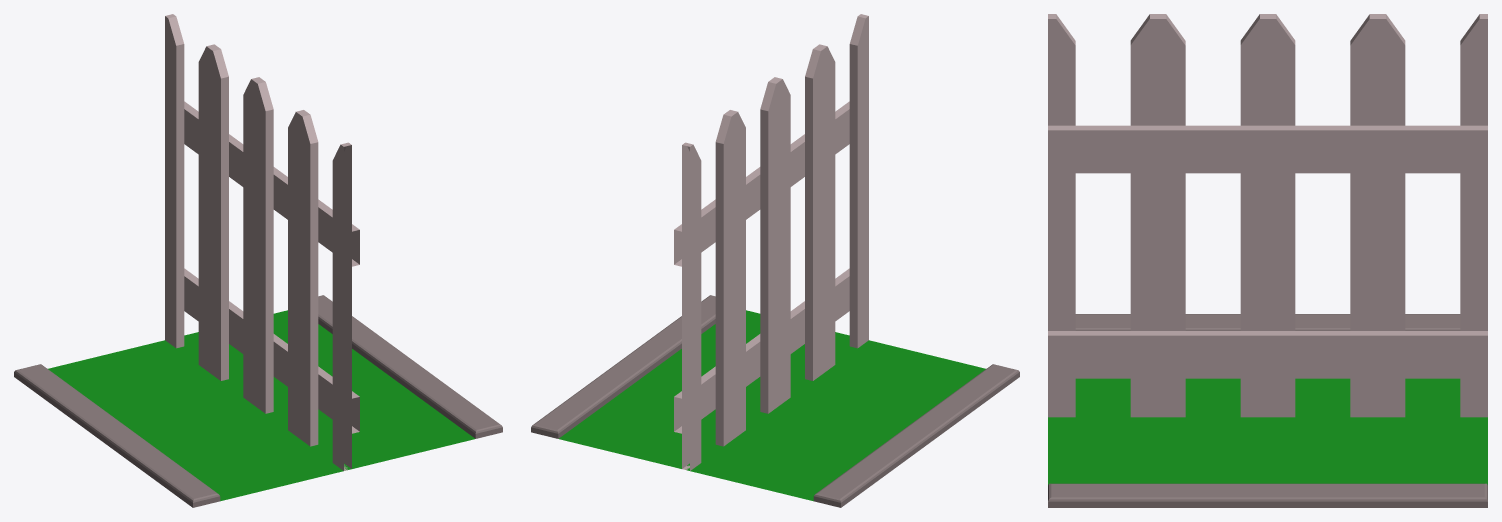
File: Fence.fbx
The picture shows the model from 3 angles, left to right: view 1: azimuth 30°, elevation 25°; view 2: azimuth 150°, elevation 25°; view 3: azimuth 270°, elevation 25°; orthographic projection. The views are drawn at different scales.
Visible parts, largest first — view 1: Fence; view 2: Fence; view 3: Fence.
Boxes of the visible parts, x1,y1,x2,y2 form: Fence: (14, 14, 502, 507); Fence: (531, 14, 1019, 507); Fence: (1048, 14, 1487, 507).
Size of the model in its own units: 100 by 100 by 100.
1 material, 1 textured.
